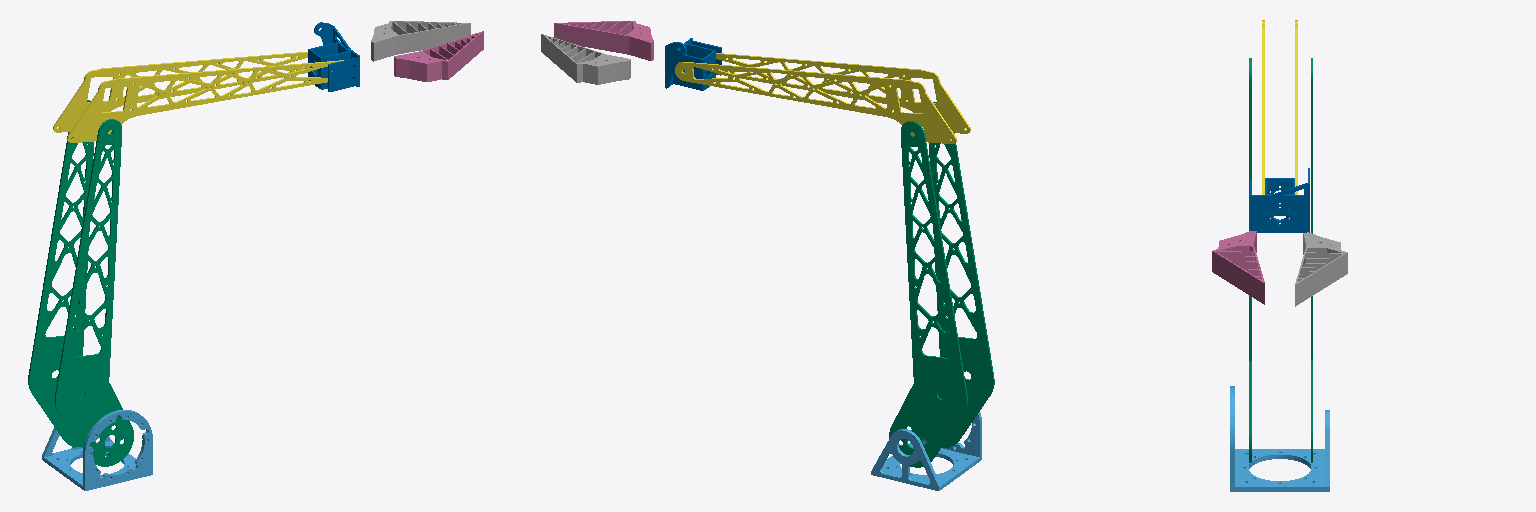
The robot description file, URDF, robot "mr_arm":
<?xml version="1.0" ?>

<robot name="mr_arm">
  <!-- Base link is the center of the robot's bottom plate -->
  <link name="link_0">
    <visual>
      <origin xyz="0 0 0" rpy="0 0 0" />
      <geometry>
        <mesh filename="package://arm_control/meshes/Link0.stl" />
      </geometry>
    </visual>
    <collision>
      <origin xyz="0 0 0" rpy="0 0 0" />
      <geometry>
        <mesh filename="package://arm_control/meshes/collision_Link0.stl" />
      </geometry>
    </collision>
  </link>

  <joint name="joint_1" type="revolute">
    <origin xyz="0 0 0" rpy="0 0 0" />
    <parent link="link_0" />
    <child link="link_1" />
    <axis xyz="0 0 1" />
    <limit effort="10.0" velocity="2.61799" lower="-3.141592" upper="3.141592" />
    <dynamics damping="0.5"/>
  </joint>

  <!-- Joint 1 -->
  <link name="link_1">
    <visual>
      <origin xyz="0 0 0" rpy="0 0 0" />
      <geometry>
        <mesh filename="package://arm_control/meshes/Link1.stl" />
      </geometry>
    </visual>
    <collision>
      <origin xyz="0 0 0" rpy="0 0 0" />
      <geometry>
        <mesh filename="package://arm_control/meshes/collision_Link1.stl" />
      </geometry>
    </collision>
  </link>

  <joint name="joint_2" type="revolute">
    <origin xyz="0 0 0.0575" rpy="0 0 0" />
    <parent link="link_1" />
    <child link="link_2" />
    <axis xyz="0 1 0" />
    <limit effort="10.0" velocity="2.61799" lower="-1.570796327" upper="1.570796327" />
    <dynamics damping="0.5"/>
  </joint>


  <link name="link_2">
    <visual>
      <origin xyz="0 0 0" rpy="0 0 0" />
      <geometry>
        <mesh filename="package://arm_control/meshes/Link2.stl" />
      </geometry>
    </visual>
    <collision>
      <origin xyz="0 0 0" rpy="0 0 0" />
      <geometry>
        <mesh filename="package://arm_control/meshes/collision_Link2.stl" />
      </geometry>
    </collision>
  </link>

  <joint name="joint_3" type="revolute">
    <origin xyz="0 0 0.5" rpy="0 0 0" />
    <parent link="link_2" />
    <child link="link_3" />
    <axis xyz="0 1 0" />
    <limit effort="10.0" velocity="2.61799" lower="-1.570796327" upper="1.570796327" />
    <dynamics damping="0.5"/>
  </joint>


  <link name="link_3">
    <visual>
      <origin xyz="0 0 0" rpy="0 0 0" />
      <geometry>
        <mesh filename="package://arm_control/meshes/Link3.stl" />
      </geometry>
    </visual>
    <collision>
      <origin xyz="0 0 0" rpy="0 0 0" />
      <geometry>
        <mesh filename="package://arm_control/meshes/collision_Link3.stl" />
      </geometry>
    </collision>
  </link>

  <joint name="joint_4" type="revolute">
    <origin xyz="0.4 0 0" rpy="0 0 0" />
    <parent link="link_3" />
    <child link="link_4" />
    <axis xyz="0 1 0" />
    <limit effort="10.0" velocity="2.61799" lower="-1.570796327" upper="1.570796327" />
    <dynamics damping="0.5"/>
  </joint>


  <link name="link_4">
    <visual>
      <origin xyz="0 0 0" rpy="0 0 0" />
      <geometry>
        <mesh filename="package://arm_control/meshes/Link4.stl" />
      </geometry>
    </visual>
    <collision>
      <origin xyz="0 0 0" rpy="0 0 0" />
      <geometry>
        <mesh filename="package://arm_control/meshes/collision_Link4.stl" />
      </geometry>
    </collision>
  </link>

  <joint name="joint_5" type="revolute">
    <origin xyz="0.034 0 0" rpy="0 0 0" />
    <parent link="link_4" />
    <child link="link_5" />
    <axis xyz="1 0 0" />
    <limit effort="10.0" velocity="2.61799" lower="-3.141592" upper="3.141592" />
    <dynamics damping="0.5"/>
  </joint>


  <link name="link_5">
    <visual>
      <origin xyz="0 0 0" rpy="0 0 0" />
      <geometry>
        <mesh filename="package://arm_control/meshes/Link5.stl" />
      </geometry>
    </visual>
    <collision>
      <origin xyz="0 0 0" rpy="0 0 0" />
      <geometry>
        <mesh filename="package://arm_control/meshes/collision_Link5.stl" />
      </geometry>
    </collision>
  </link>


  <joint name="joint_6" type="revolute">
    <origin xyz="0.050 -0.045 -0.01" rpy="0 0 1.570796327" />
    <parent link="link_5" />
    <child link="link_6" />
    <axis xyz="0 0 1" />
    <limit effort="10.0" velocity="2.61799" lower="-3.141592" upper="3.141592" />
    <dynamics damping="0.5"/>
  </joint>

  <joint name="joint_7" type="revolute">
    <origin xyz="0.050 0.045 -0.01" rpy="0 3.141592 1.570796327" />
    <parent link="link_5" />
    <child link="link_7" />
    <axis xyz="0 0 1" />
    <limit effort="10.0" velocity="2.61799" lower="-3.141592" upper="3.141592" />
    <dynamics damping="0.5"/>
  </joint>


  <link name="link_6">
    <visual>
      <origin xyz="0 0 0" rpy="0 0 0" />
      <geometry>
        <mesh filename="package://arm_control/meshes/finger.stl" />
      </geometry>
    </visual>
    <collision>
      <origin xyz="0 0 0" rpy="0 0 0" />
      <geometry>
        <box size="0.1 0.1 0.1" />
      </geometry>
    </collision>
  </link>


  <link name="link_7">
    <visual>
      <origin xyz="0 0 0" rpy="0 0 0" />
      <geometry>
        <mesh filename="package://arm_control/meshes/finger.stl" />
      </geometry>
    </visual>
    <collision>
      <origin xyz="0 0 0" rpy="0 0 0" />
      <geometry>
        <box size="0.1 0.1 0.1" />
      </geometry>
    </collision>
  </link>
</robot>

--- Render facts (derived) ---
3 views of the same robot in one strip: view 1: azimuth 30°, elevation 25°; view 2: azimuth 150°, elevation 25°; view 3: azimuth 270°, elevation 25° (orthographic).
Model mr_arm with 8 links and 7 joints (7 revolute), rooted at link_0, posed all joints at 0.
Visible links, largest first — view 1: link_2, link_3, link_1, link_7, link_6, link_4; view 2: link_2, link_3, link_1, link_6, link_7, link_4; view 3: link_1, link_4, link_6, link_7, link_2, link_3.
Link boxes in pixels (x1,y1,x2,y2): link_2: (28,100,133,466); link_3: (53,52,343,142); link_1: (42,410,152,490); link_7: (371,21,470,61); link_6: (394,31,483,81); link_4: (308,22,359,91); link_2: (889,102,994,467); link_3: (675,53,970,143); link_1: (871,412,981,490); link_6: (554,21,653,60); link_7: (541,34,630,84); link_4: (665,38,721,90); link_1: (1230,386,1329,491); link_4: (1250,168,1309,232); link_6: (1212,231,1264,304); link_7: (1295,232,1347,306); link_2: (1249,58,1312,462); link_3: (1262,20,1297,194).
Size in the robot's own frame: 0.7365 by 0.1716 by 0.6321 metres.
Meshes: 7 distinct files referenced, 6 mesh visuals loaded (5 binary STL); not drawn: 2 (reference not matched to a file when rendering).